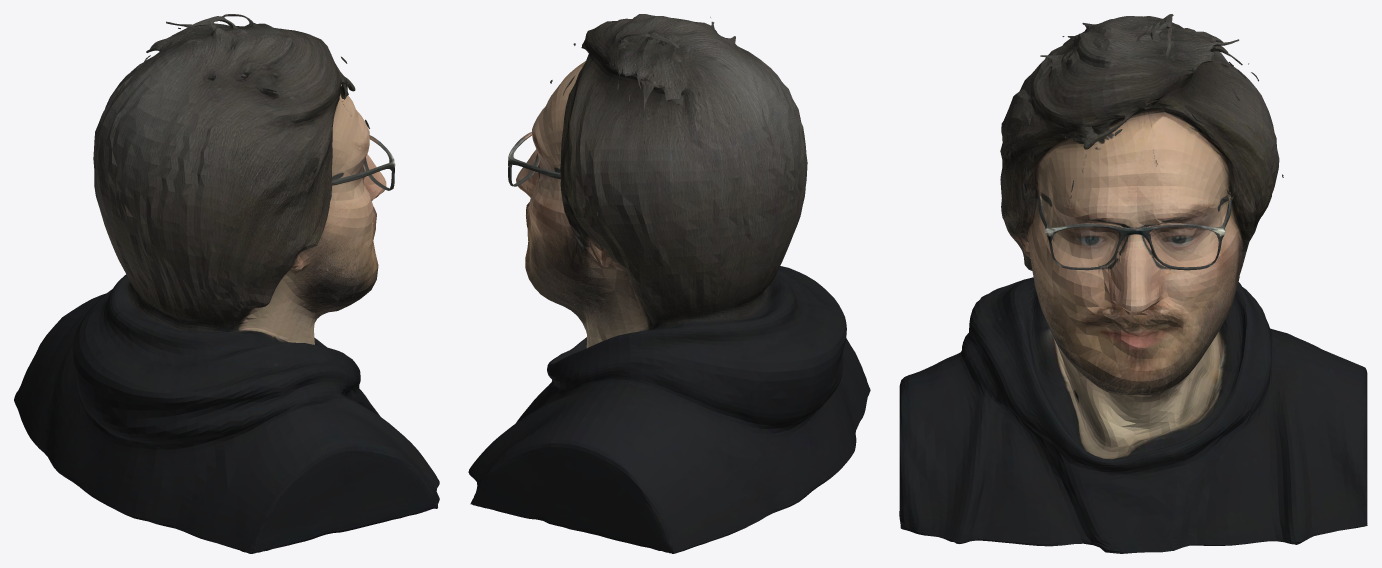
File: head.glb
The picture shows the model from 3 angles, left to right: view 1: azimuth 30°, elevation 25°; view 2: azimuth 150°, elevation 25°; view 3: azimuth 270°, elevation 25°; orthographic projection. The views are drawn at different scales.
Parts seen in each view (by area): view 1: tripo_node_afcb1257-d6f6-46f8-8189-c260ba954230; view 2: tripo_node_afcb1257-d6f6-46f8-8189-c260ba954230; view 3: tripo_node_afcb1257-d6f6-46f8-8189-c260ba954230.
Boxes of the visible parts, box(x1,y1,x2,y2) form: tripo_node_afcb1257-d6f6-46f8-8189-c260ba954230: box(14, 14, 439, 553); tripo_node_afcb1257-d6f6-46f8-8189-c260ba954230: box(468, 14, 870, 553); tripo_node_afcb1257-d6f6-46f8-8189-c260ba954230: box(899, 14, 1367, 553).
Bounding box in the file's own units: 0.748 × 0.9995 × 0.9278.
1 material, 1 textured.
